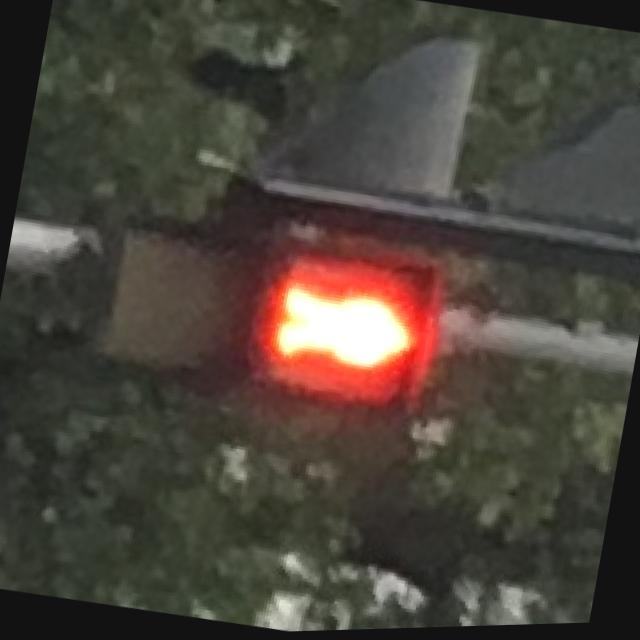red_light: (247, 246, 433, 425)
